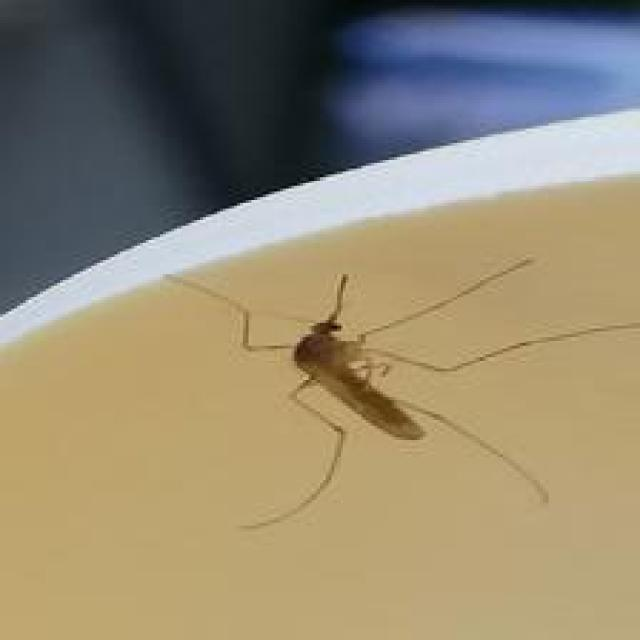Culex: (163, 252, 640, 532)
